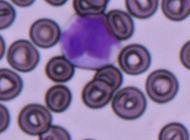M: (59, 13, 122, 70)
